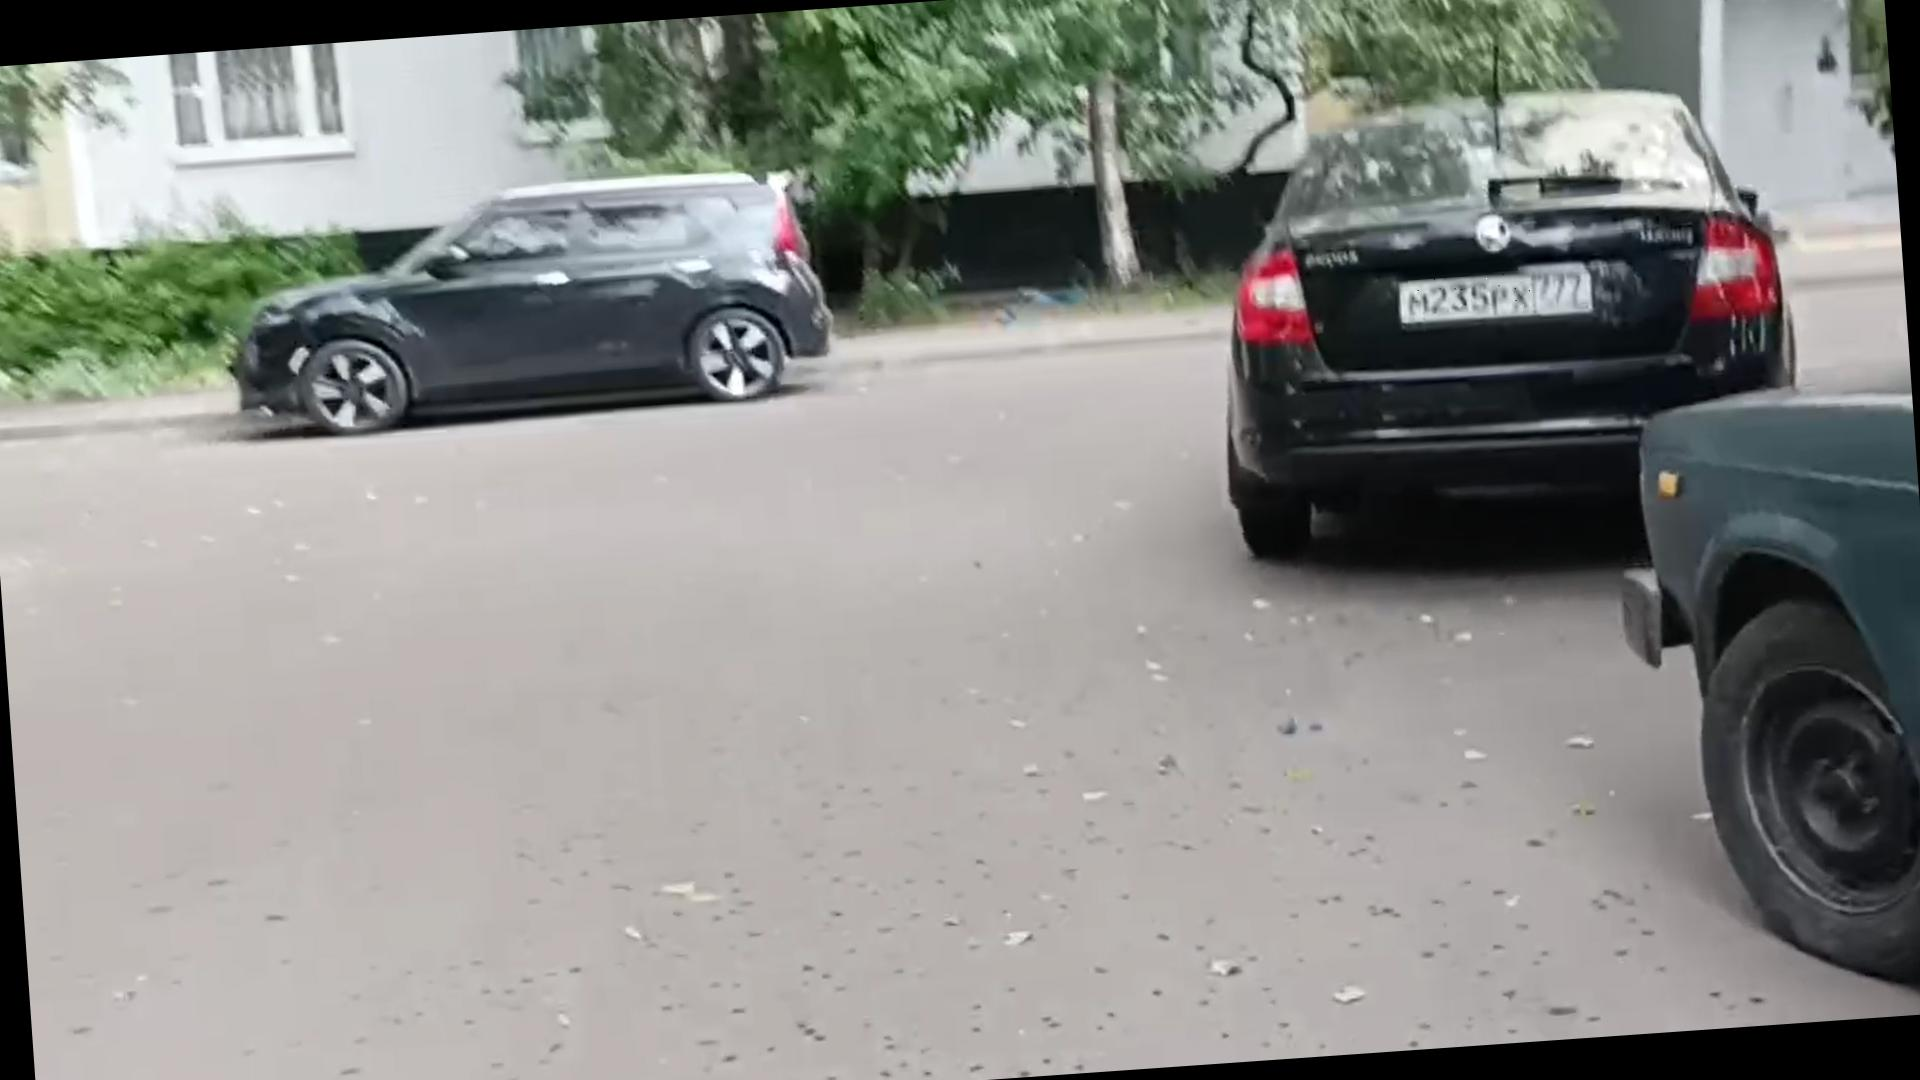plate: (1409, 270, 1578, 318)
